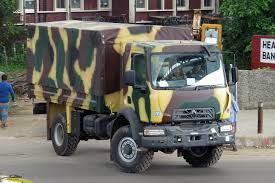army vehicle: (28, 19, 233, 172)
